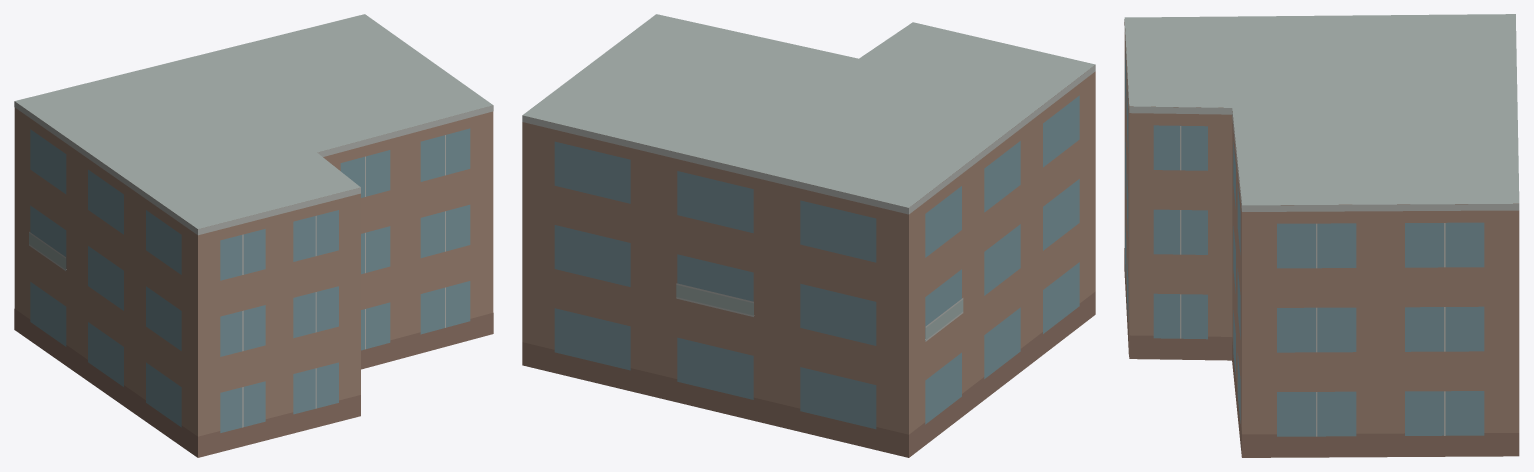
File: survey-upis-32718336.glb
The picture shows the model from 3 angles, left to right: view 1: azimuth 30°, elevation 25°; view 2: azimuth 150°, elevation 25°; view 3: azimuth 270°, elevation 25°; orthographic projection. The views are drawn at different scales.
Parts seen in each view (by area): view 1: survey-upis-32718336.tmp; view 2: survey-upis-32718336.tmp; view 3: survey-upis-32718336.tmp.
Boxes of the visible parts, x1,y1,x2,y2 form: survey-upis-32718336.tmp: [14, 14, 493, 457]; survey-upis-32718336.tmp: [522, 14, 1095, 457]; survey-upis-32718336.tmp: [1124, 14, 1519, 457].
Bounding box in the file's own units: 14.89 × 9.15 × 12.98.
